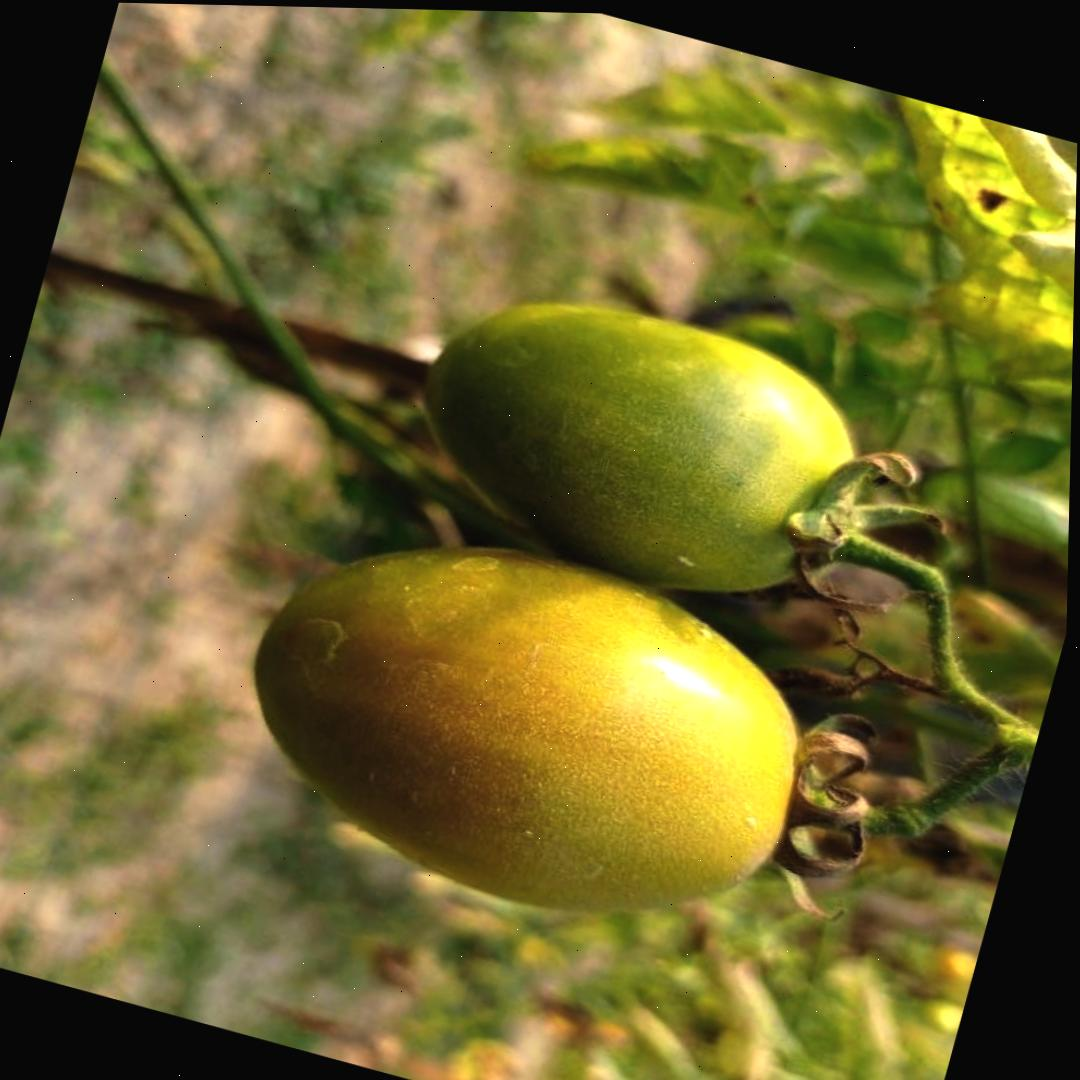setengah_matang: (206, 483, 851, 972), (384, 255, 895, 635)
